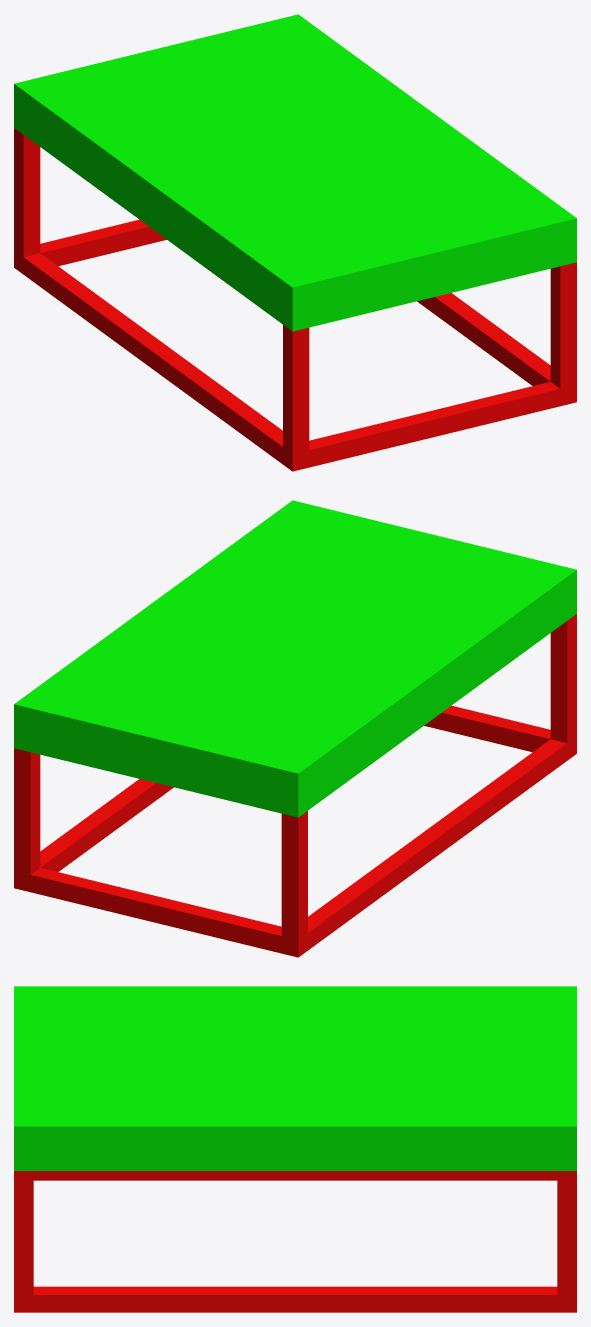
Rendered from Lowtable.fbx.
3 renders of one model, top to bottom at view 1: azimuth 30°, elevation 25°; view 2: azimuth 150°, elevation 25°; view 3: azimuth 270°, elevation 25°, orthographic.
Parts seen in each view (by area): view 1: pCube58, pCube65, pCube64, pCube66, pCube60, pCube61, pCube59, pCube63; view 2: pCube58, pCube65, pCube63, pCube66, pCube59, pCube62, pCube60, pCube64; view 3: pCube58, pCube66, pCube65, pCube61, pCube62.
Boxes of the visible parts, x1,y1,x2,y2 form: pCube58: (14,14,576,331); pCube65: (23,253,282,464); pCube64: (309,382,560,467); pCube66: (417,293,550,385); pCube60: (283,325,309,471); pCube61: (550,262,576,406); pCube59: (14,128,40,274); pCube63: (40,219,166,266); pCube58: (14,500,576,817); pCube65: (308,739,567,950); pCube63: (30,868,281,953); pCube66: (40,779,173,871); pCube59: (281,811,307,957); pCube62: (14,748,40,892); pCube60: (550,614,576,760); pCube64: (424,705,550,752); pCube58: (14,986,576,1170); pCube66: (33,1286,557,1312); pCube65: (33,1171,557,1180); pCube61: (14,1171,33,1312); pCube62: (557,1171,576,1312).
Bounding box in the file's own units: 2.13 × 1.31 × 3.61.
